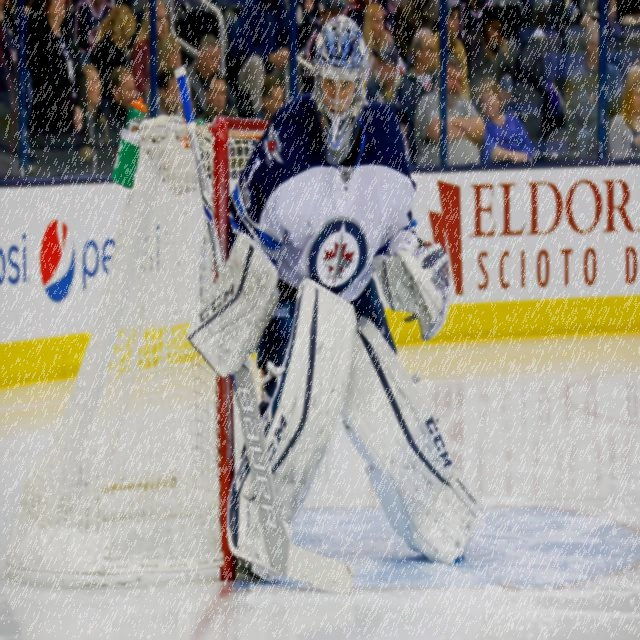pessoa: (182, 13, 490, 590), (386, 0, 638, 58), (19, 0, 90, 155), (568, 19, 626, 161), (225, 0, 293, 120), (413, 55, 486, 166), (364, 42, 418, 174), (0, 0, 38, 185), (398, 26, 441, 167), (70, 62, 119, 180), (475, 75, 535, 164), (185, 32, 233, 120), (468, 59, 539, 117), (106, 64, 140, 178), (293, 1, 357, 58), (132, 1, 168, 98), (362, 1, 405, 82), (88, 3, 138, 72), (244, 74, 285, 158), (608, 62, 640, 162), (156, 33, 191, 119), (68, 0, 116, 61), (540, 59, 563, 167), (195, 70, 235, 125), (156, 66, 184, 120), (64, 2, 78, 42)
